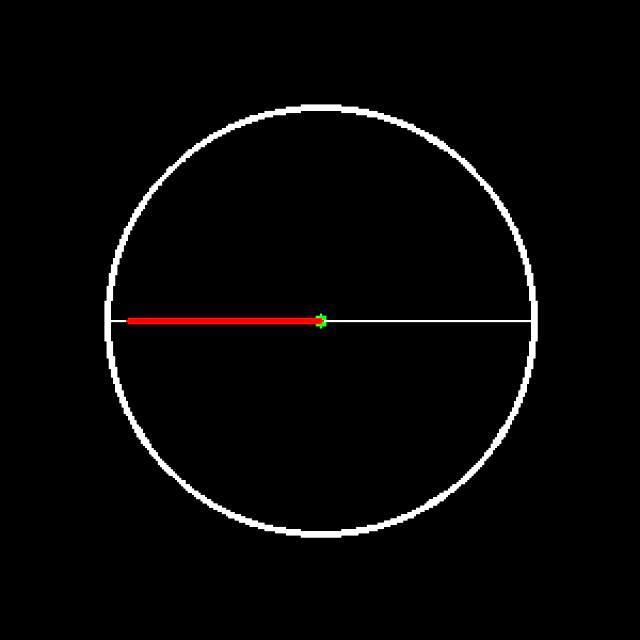Needle_Tip: (115, 296, 156, 342)
Needle_base: (285, 299, 358, 361)
